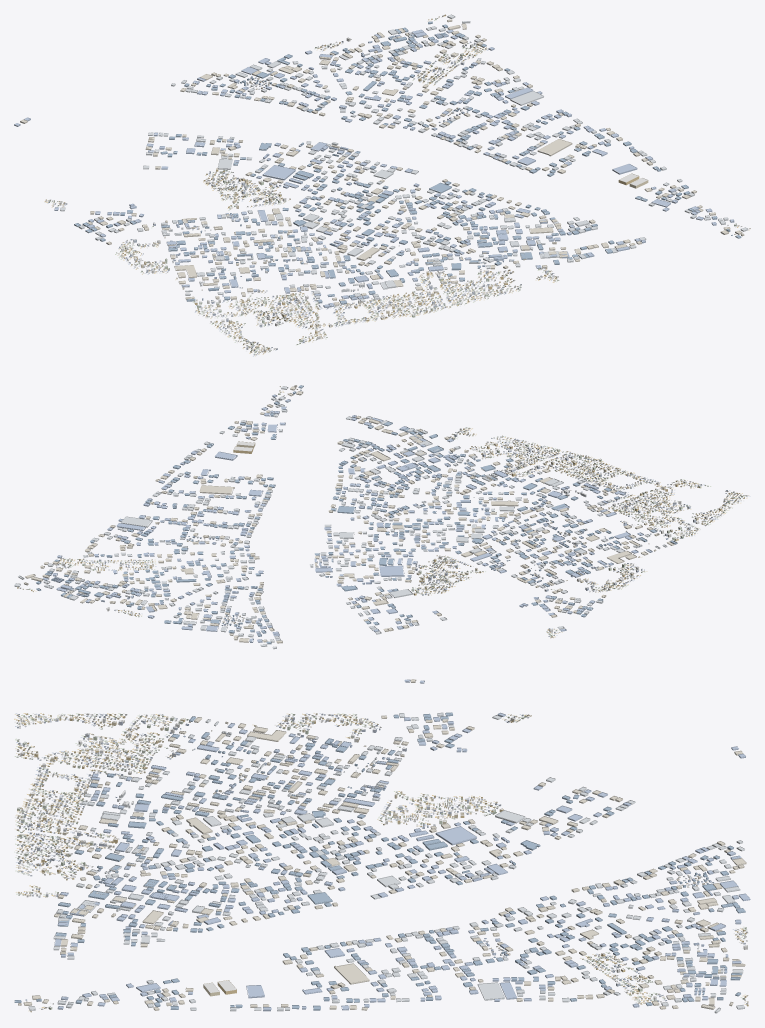
3 renders of one model, top to bottom at view 1: azimuth 30°, elevation 25°; view 2: azimuth 150°, elevation 25°; view 3: azimuth 270°, elevation 25°, orthographic. The views are drawn at different scales.
Visible parts, largest first — view 1: roof_zinc, factory, house, apartment, roof_flat; view 2: roof_zinc, factory, house, apartment, roof_flat; view 3: roof_zinc, factory, house, apartment, roof_flat.
Boxes of the visible parts, x1,y1,x2,y2 form: roof_zinc: (15, 14, 749, 356); factory: (14, 14, 748, 307); house: (45, 14, 750, 355); apartment: (59, 37, 736, 345); roof_flat: (59, 38, 736, 343); roof_zinc: (14, 385, 750, 682); factory: (14, 385, 677, 683); house: (17, 386, 747, 638); apartment: (62, 393, 730, 632); roof_flat: (62, 393, 729, 630); roof_zinc: (14, 713, 750, 1012); factory: (14, 712, 750, 1013); house: (16, 713, 748, 1012); apartment: (17, 715, 747, 1009); roof_flat: (17, 716, 747, 1007).
Bounding box in the file's own units: 1.41e+08 × 741387 × 1.46e+08.
